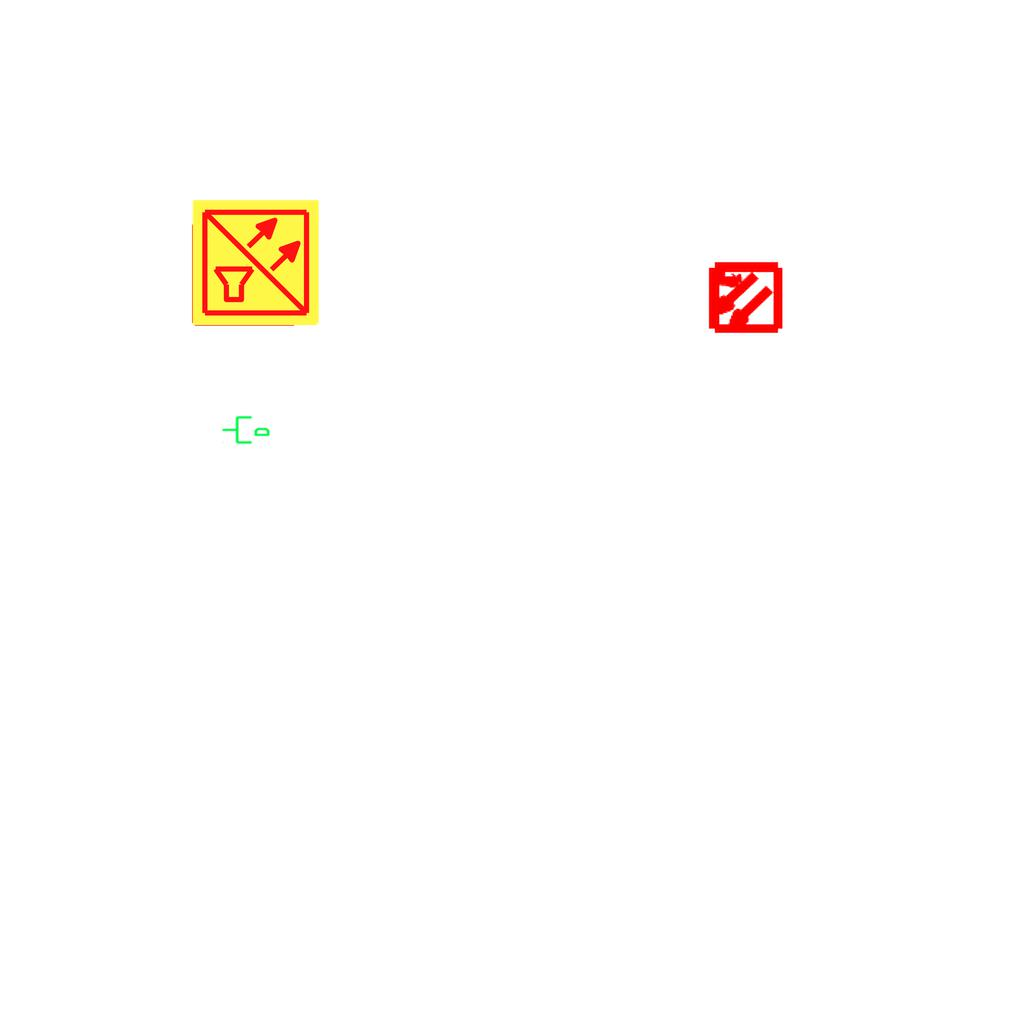Datenanschluss_einfach: (221, 412, 271, 446)
OKW_Multisensormelder_(Kombination_optischer_Rauch-Kahlenmonoxid_Waerme-Melder): (190, 197, 322, 329)
OT_Multisensormelder_(Kombination_RMO_WMD): (687, 241, 800, 354)
